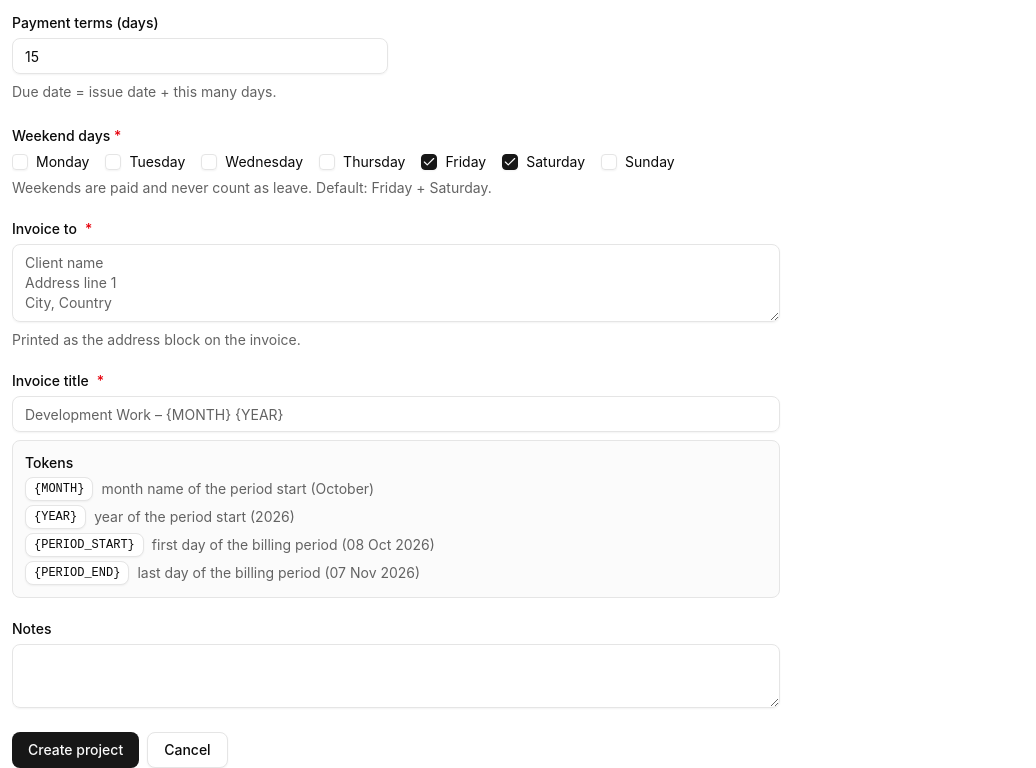
Test: ProjectForm › validates required fields
(page scrolled)
Step 1. Click the button "Create project" → (76,750), box [12,732,139,767]
(page scrolled)
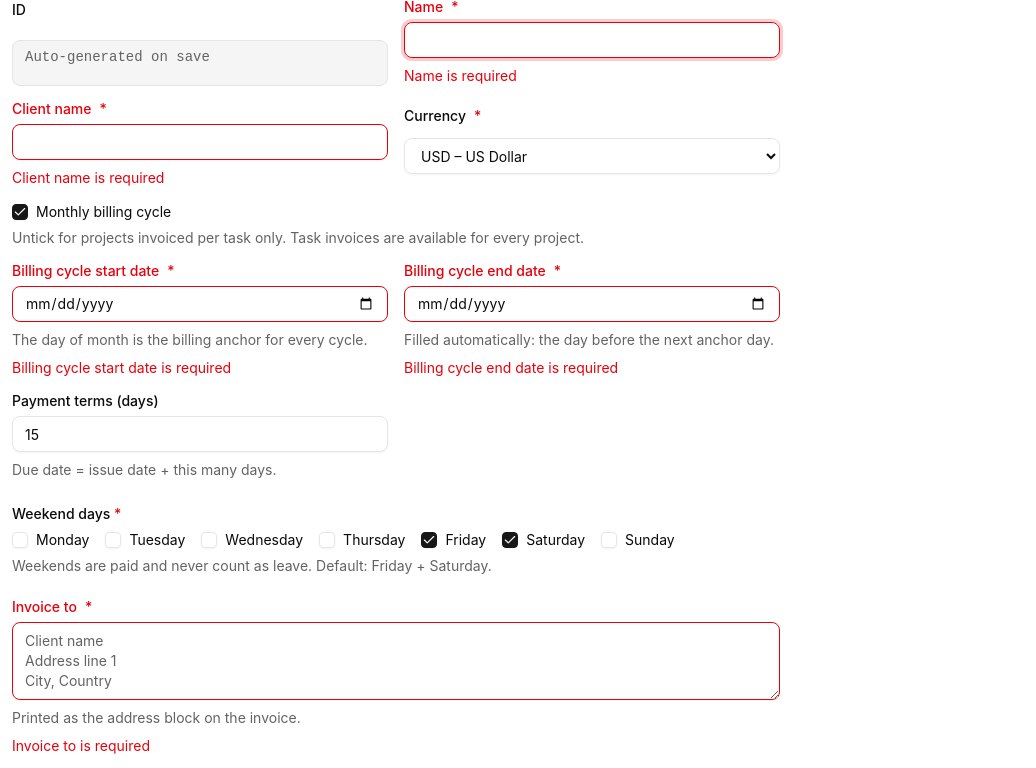
Check: the text "Name is required" is shown, box [404,67,517,84]
Check: the text "Client name is required" is shown, box [12,169,164,186]
Check: the text "Invoice to is required" is shown, box [12,737,150,754]
